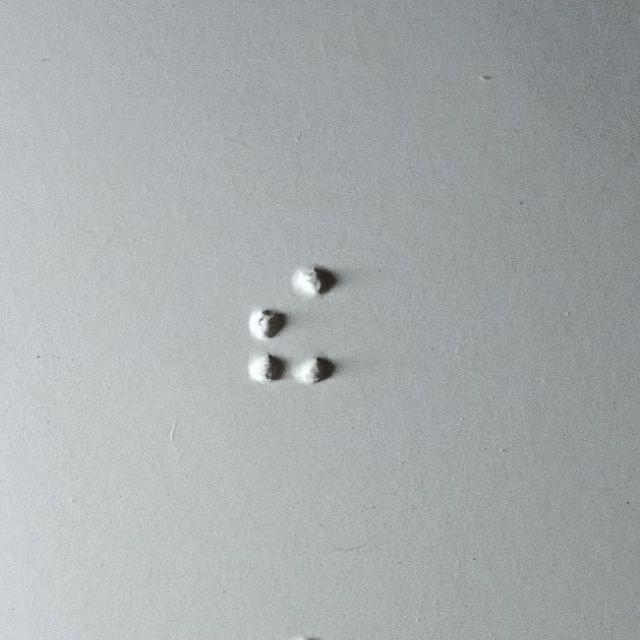ang: (250, 265, 342, 386)
